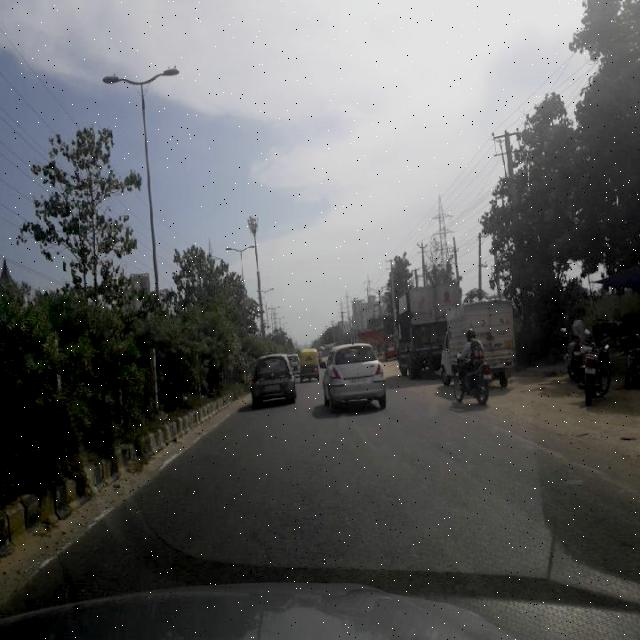D00: (51, 501, 145, 599)
D20: (49, 425, 640, 594)
